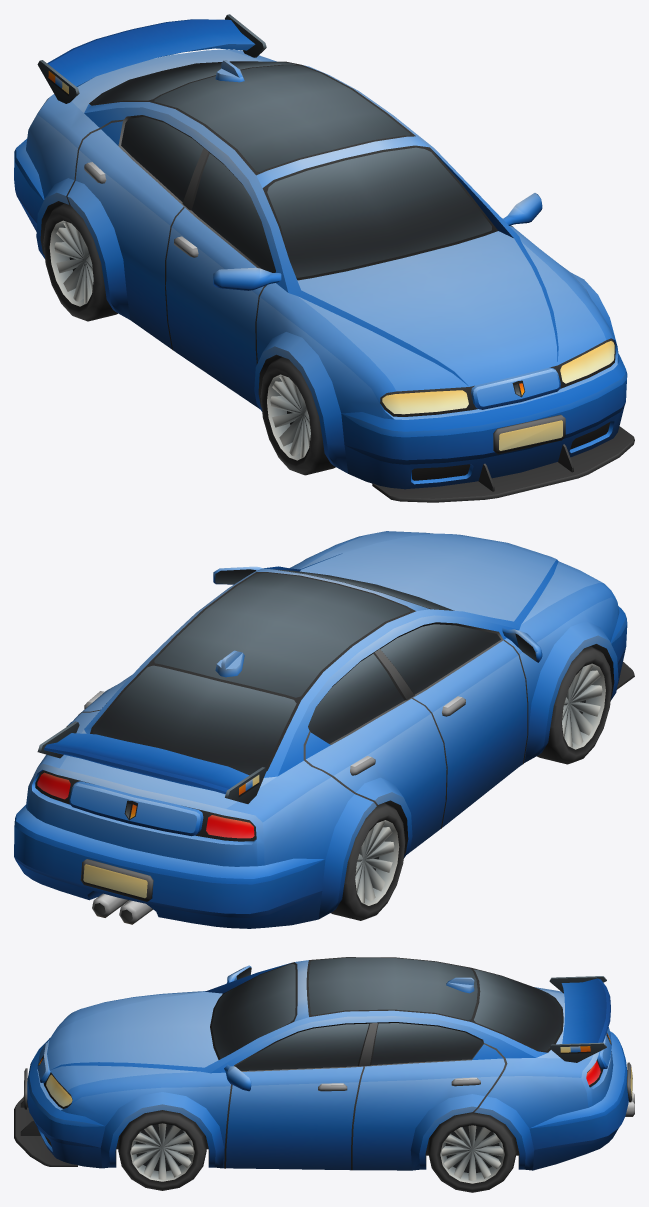
The model's file is Car_1.fbx.
3 views of the same model, one above another, from view 1: azimuth 30°, elevation 25°; view 2: azimuth 150°, elevation 25°; view 3: azimuth 270°, elevation 25° (orthographic). The views are drawn at different scales.
Parts seen in each view (by area): view 1: polySurface12, Car_1:Wheel_14A_F.R, Car_1:Wheel_14A_R.R, Demo_car:Rally_Car_1A_Front_Skirt; view 2: polySurface12, Car_1:Wheel_14A_F.R, Car_1:Wheel_14A_R.R; view 3: polySurface12, Car_1:Wheel_14A_F.L, Car_1:Wheel_14A_R.L, Demo_car:Rally_Car_1A_Front_Skirt.
Boxes of the visible parts, x1,y1,x2,y2 form: polySurface12: (14, 14, 627, 489); Car_1:Wheel_14A_F.R: (260, 357, 335, 475); Car_1:Wheel_14A_R.R: (43, 203, 117, 321); Demo_car:Rally_Car_1A_Front_Skirt: (372, 426, 634, 502); polySurface12: (14, 531, 627, 928); Car_1:Wheel_14A_F.R: (537, 646, 612, 764); Car_1:Wheel_14A_R.R: (331, 803, 405, 920); polySurface12: (23, 957, 634, 1170); Car_1:Wheel_14A_F.L: (118, 1110, 206, 1190); Car_1:Wheel_14A_R.L: (428, 1112, 516, 1192); Demo_car:Rally_Car_1A_Front_Skirt: (14, 1097, 77, 1166).
Bounding box in the file's own units: 185 × 120 × 416.
Materials: 1 (1 with a texture image).
